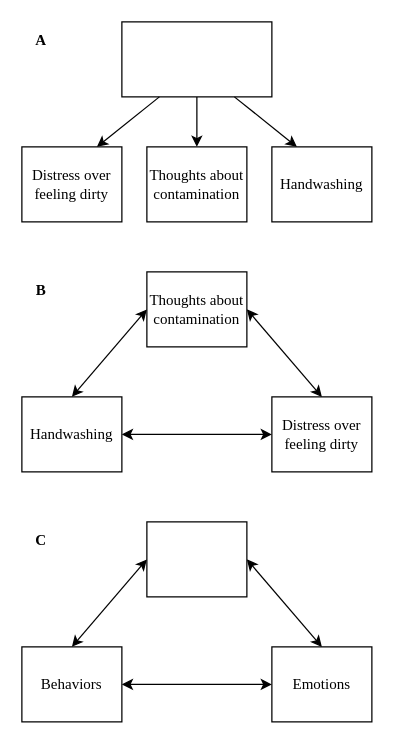
The diagram is 394 pixels wide and 744 high, and some of its shapes have lost their labels. Each missing label, with the box of its shape:
Obsessive compulsive disorder: (121, 21, 272, 97)
Thoughts: (146, 521, 247, 597)
